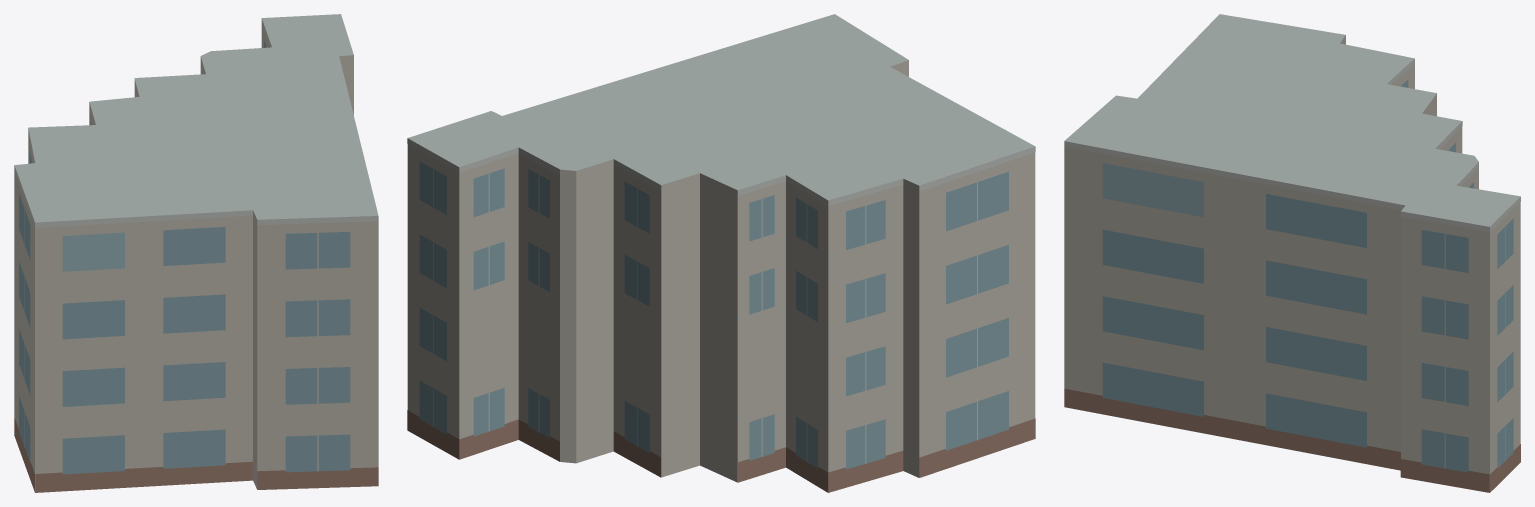
File: survey-upis-32616487.glb
3 views of the same model, side by side, from view 1: azimuth 30°, elevation 25°; view 2: azimuth 150°, elevation 25°; view 3: azimuth 270°, elevation 25° (orthographic). The views are drawn at different scales.
Parts seen in each view (by area): view 1: survey-upis-32616487.tmp; view 2: survey-upis-32616487.tmp; view 3: survey-upis-32616487.tmp.
Boxes of the visible parts, <box> form: survey-upis-32616487.tmp: <box>14,14,378,492</box>; survey-upis-32616487.tmp: <box>407,14,1035,492</box>; survey-upis-32616487.tmp: <box>1064,14,1520,492</box>.
Bounding box in the file's own units: 20.95 × 12.2 × 18.99.
